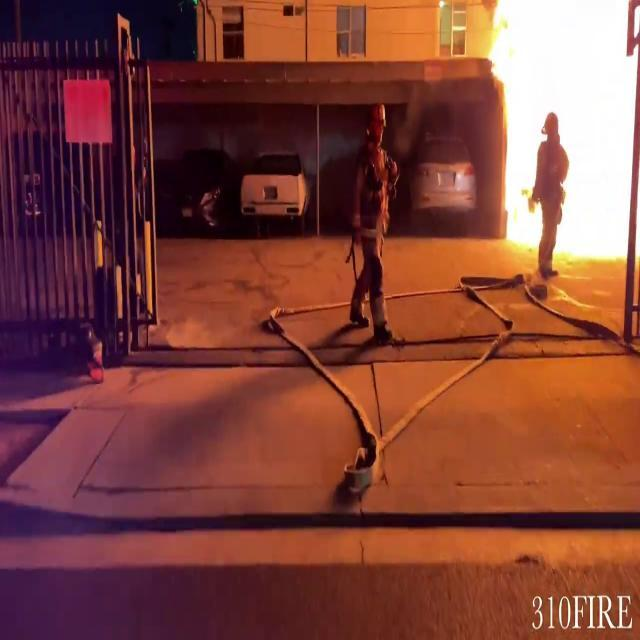Fire: (480, 0, 640, 267)
